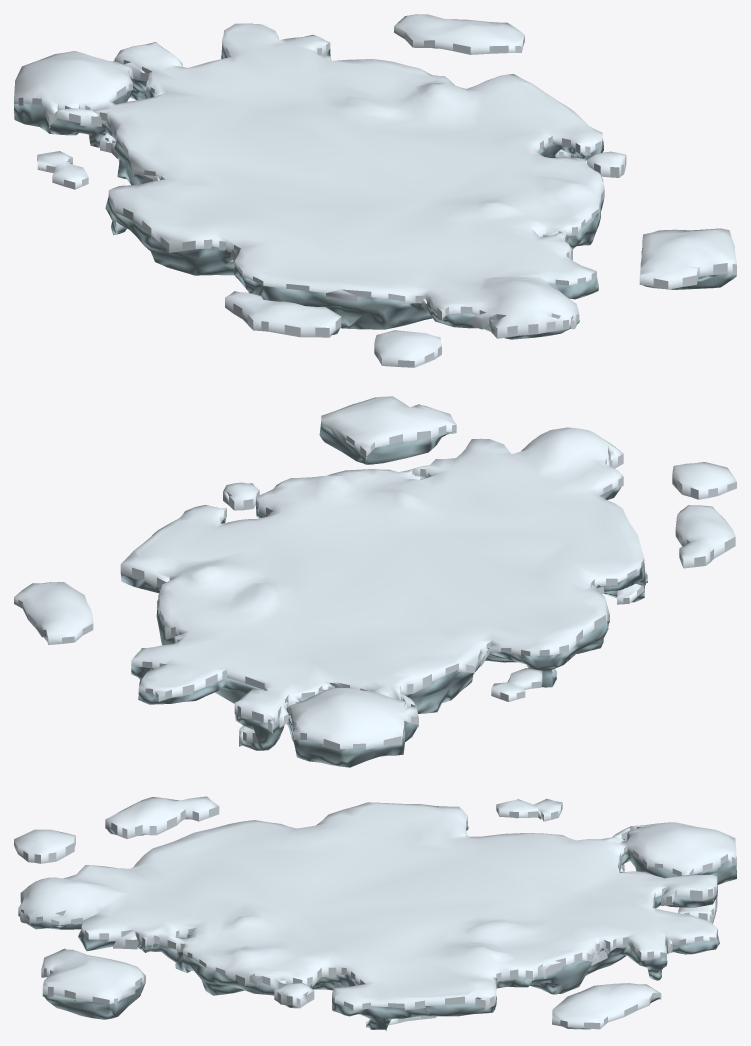
Rendered from SecondRoom_FrozenPool.fbx.
3 views of the same model, one above another, from view 1: azimuth 30°, elevation 25°; view 2: azimuth 150°, elevation 25°; view 3: azimuth 270°, elevation 25° (orthographic). The views are drawn at different scales.
Visible parts, largest first — view 1: SecondRoom_FrozenPool_LOD0; view 2: SecondRoom_FrozenPool_LOD0; view 3: SecondRoom_FrozenPool_LOD0.
Part boxes in pixels (x1,y1,x2,y2): SecondRoom_FrozenPool_LOD0: [14, 14, 736, 367]; SecondRoom_FrozenPool_LOD0: [14, 396, 736, 767]; SecondRoom_FrozenPool_LOD0: [14, 796, 736, 1030].
Size of what is drawn, in the model's own units: 4.37 by 0.5103 by 6.
